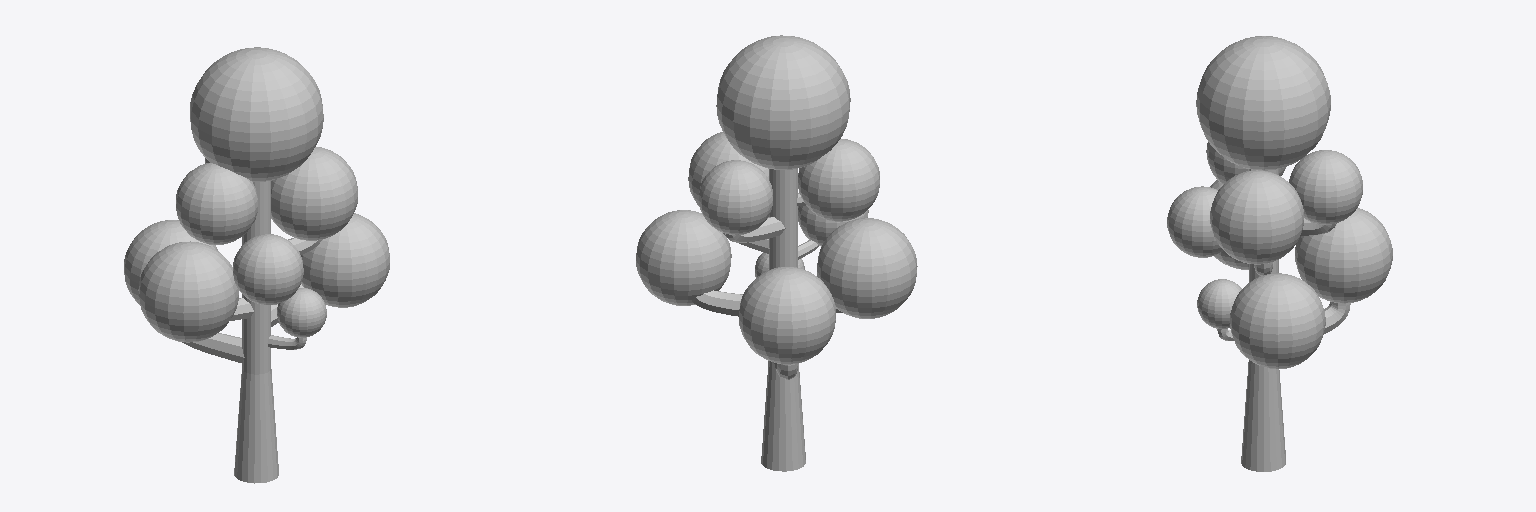
Rendered from tree_textures.obj.
3 renders of one model, left to right at view 1: azimuth 30°, elevation 25°; view 2: azimuth 150°, elevation 25°; view 3: azimuth 270°, elevation 25°, orthographic.
Visible parts, largest first — view 1: tree pSphere1 Leaves, tree Leaves pSphere5, Stump tree, tree Leaves pSphere3, tree Leaves pSphere7, tree Leaves pSphere2, tree Leaves pSphere4, tree Leaves pSphere6, tree Leaves pSphere8, tree Branches sweep3; view 2: tree pSphere1 Leaves, tree Leaves pSphere5, tree Leaves pSphere6, tree Leaves pSphere7, Stump tree, tree Leaves pSphere2, tree Leaves pSphere9, tree Leaves pSphere3, tree Leaves pSphere4, tree Branches sweep6, tree Branches sweep8; view 3: tree pSphere1 Leaves, tree Leaves pSphere7, tree Leaves pSphere3, tree Leaves pSphere6, Stump tree, tree Leaves pSphere9, tree Leaves pSphere4, tree Leaves pSphere8, tree Leaves pSphere2, tree Branches sweep3.
Part boxes in pixels (bbox=[...]): tree pSphere1 Leaves: bbox=[190, 47, 323, 181]; tree Leaves pSphere5: bbox=[138, 241, 238, 342]; Stump tree: bbox=[234, 181, 278, 483]; tree Leaves pSphere3: bbox=[271, 147, 357, 240]; tree Leaves pSphere7: bbox=[301, 213, 389, 307]; tree Leaves pSphere2: bbox=[176, 163, 257, 244]; tree Leaves pSphere4: bbox=[233, 234, 303, 304]; tree Leaves pSphere6: bbox=[124, 220, 217, 304]; tree Leaves pSphere8: bbox=[277, 288, 326, 337]; tree Branches sweep3: bbox=[182, 333, 244, 362]; tree pSphere1 Leaves: bbox=[716, 35, 850, 169]; tree Leaves pSphere5: bbox=[817, 218, 917, 318]; tree Leaves pSphere6: bbox=[739, 267, 835, 364]; tree Leaves pSphere7: bbox=[636, 210, 731, 305]; Stump tree: bbox=[761, 169, 805, 471]; tree Leaves pSphere2: bbox=[798, 139, 879, 221]; tree Leaves pSphere9: bbox=[699, 160, 772, 234]; tree Leaves pSphere3: bbox=[688, 132, 768, 206]; tree Leaves pSphere4: bbox=[798, 206, 868, 246]; tree Branches sweep6: bbox=[692, 290, 742, 316]; tree Branches sweep8: bbox=[725, 217, 785, 242]; tree pSphere1 Leaves: bbox=[1196, 36, 1330, 170]; tree Leaves pSphere7: bbox=[1230, 273, 1325, 368]; tree Leaves pSphere3: bbox=[1210, 170, 1304, 264]; tree Leaves pSphere6: bbox=[1295, 208, 1392, 303]; Stump tree: bbox=[1241, 169, 1285, 471]; tree Leaves pSphere9: bbox=[1289, 150, 1362, 224]; tree Leaves pSphere4: bbox=[1167, 186, 1223, 257]; tree Leaves pSphere8: bbox=[1197, 279, 1241, 328]; tree Leaves pSphere2: bbox=[1206, 142, 1285, 184]; tree Branches sweep3: bbox=[1324, 302, 1350, 333].
Bounding box in the file's own units: 16.51 × 26.1 × 12.72.